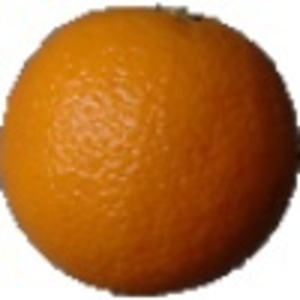laranja: (2, 4, 296, 296)
